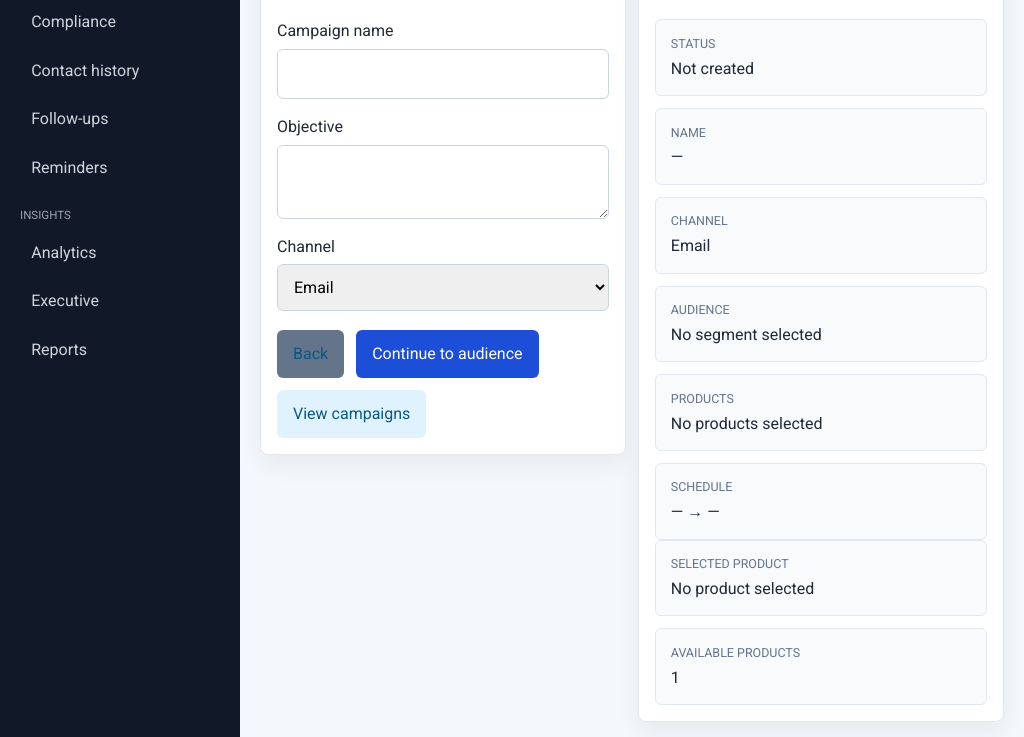
Test: campaign creation UI integration (item 603) › validates the first step before allowing progress
(page scrolled)
Check: the field labelled "Campaign name" is shown, box [277,49,609,99]
Click the button "Continue to audience" at (447, 354), box [356,330,539,378]
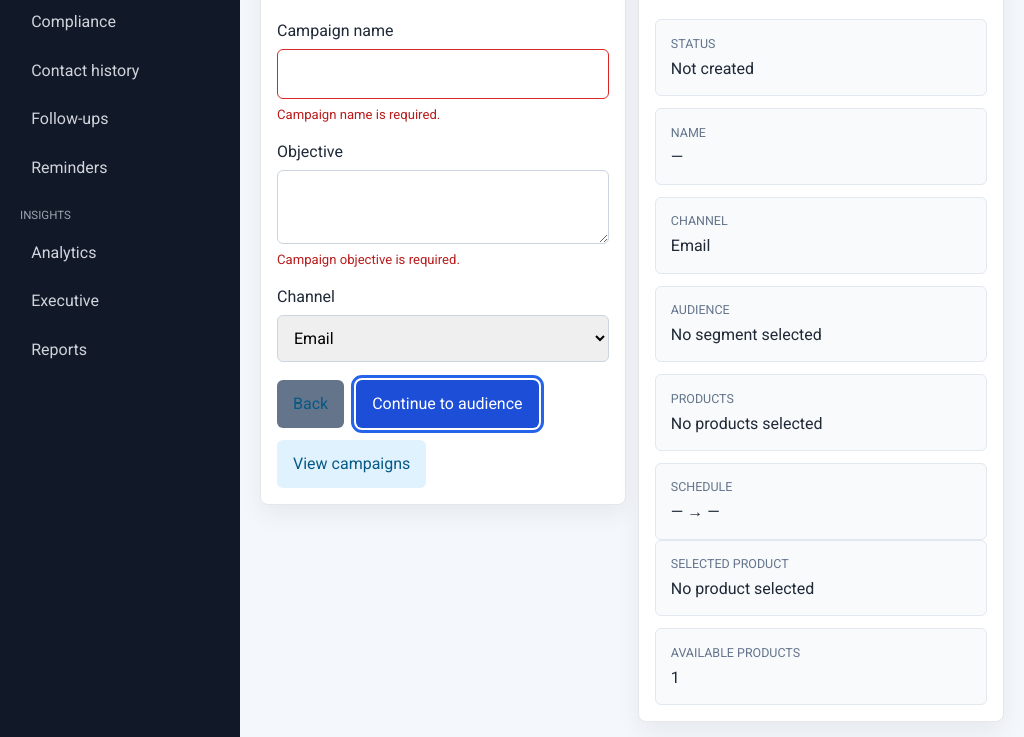
Check: the text "Campaign name is required." is shown, box [277,107,440,122]
Check: the text "Campaign objective is required." is shown, box [277,252,460,266]
